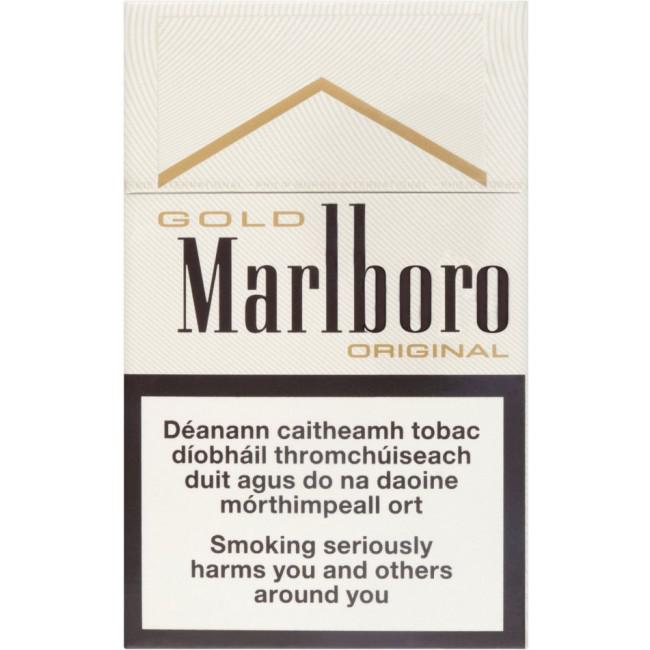marlboro_gold: (129, 3, 526, 647)
